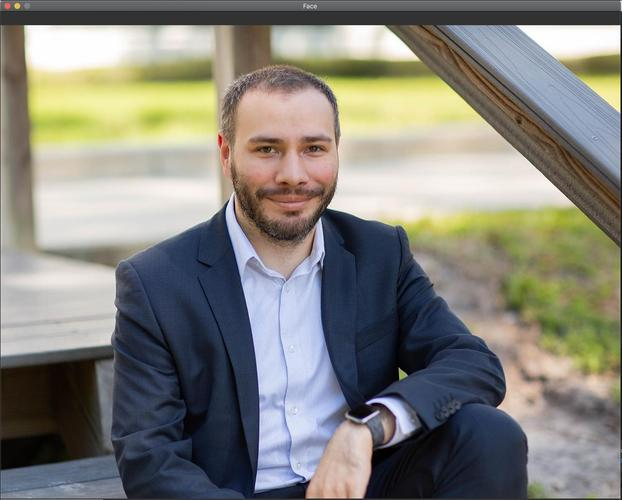no_mask: (228, 78, 342, 237)
